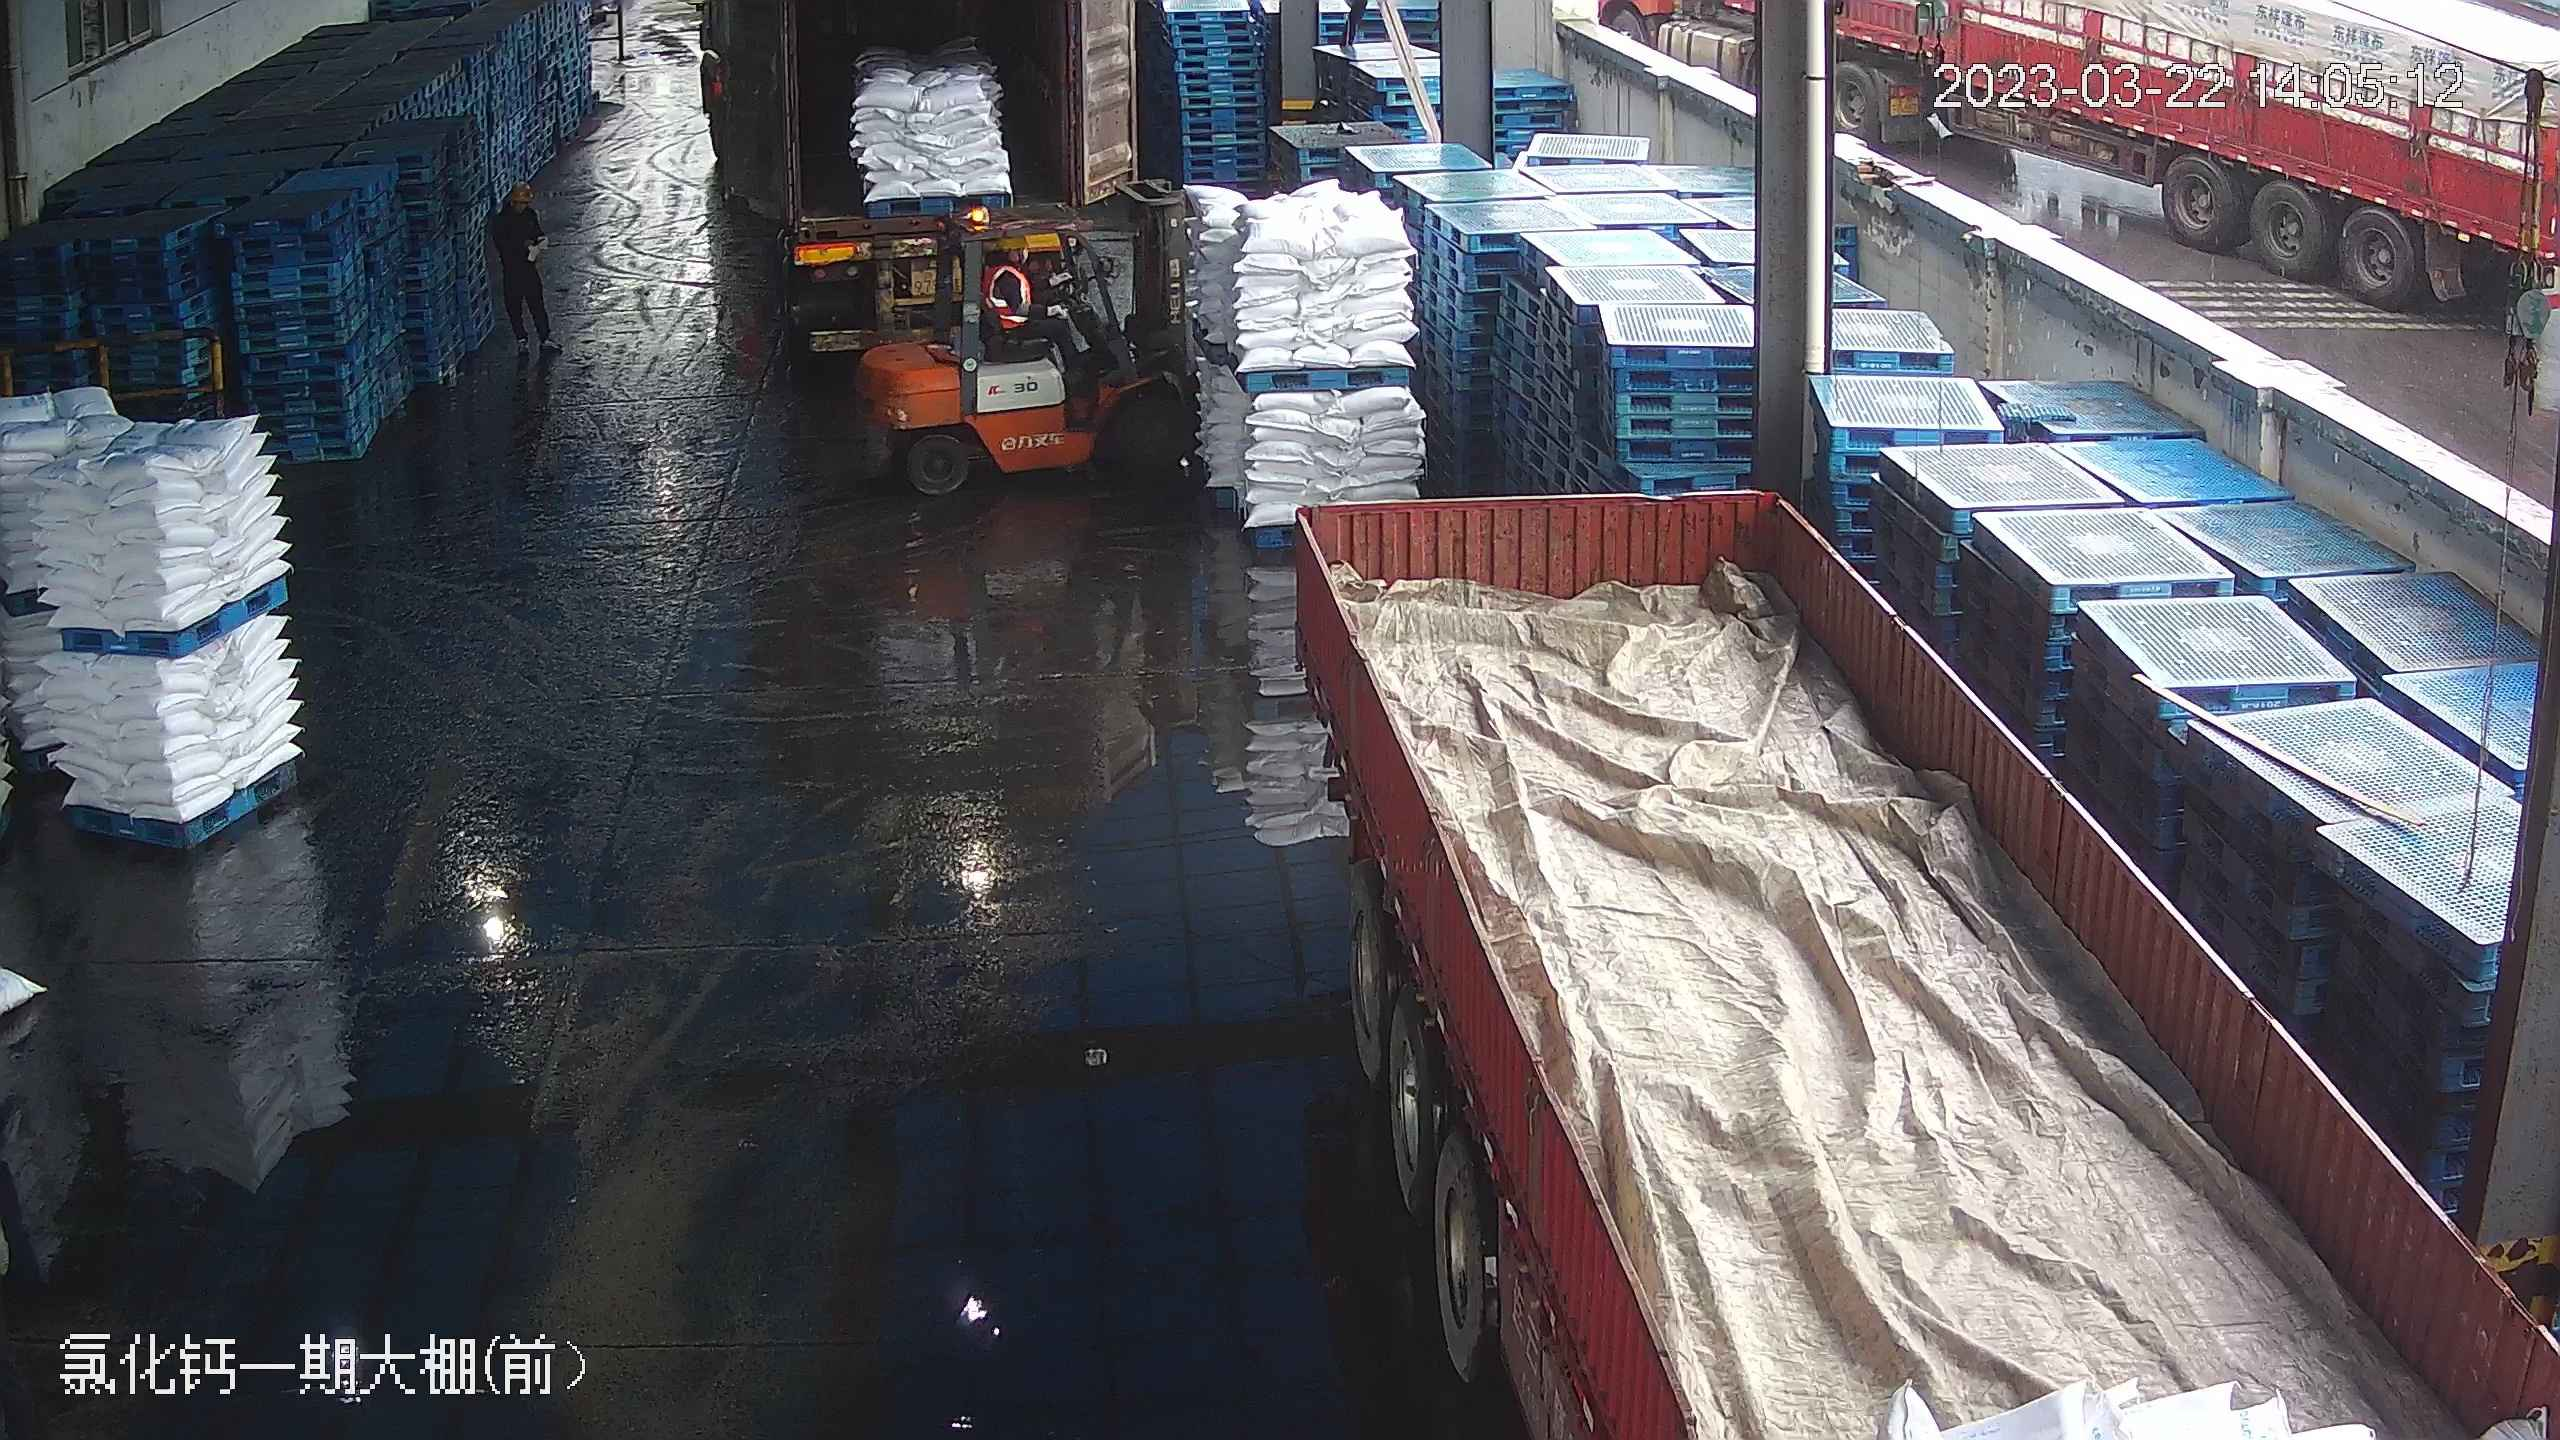head: (981, 229, 1035, 294), (491, 180, 540, 232)
helmet: (998, 233, 1028, 253), (507, 180, 531, 200)
people: (982, 230, 1098, 378), (488, 177, 552, 354)
truck: (1262, 472, 2537, 1434), (749, 1, 1091, 328)
